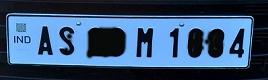1: (167, 26, 181, 58)
4: (226, 26, 245, 57)
A: (36, 23, 54, 55)
M: (135, 26, 153, 57)
S: (56, 25, 75, 55)
